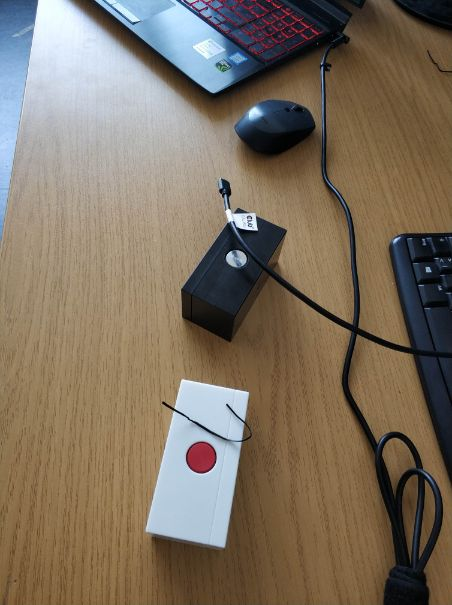black+black+silver: (176, 203, 292, 343)
white+white+red: (141, 377, 253, 551)
